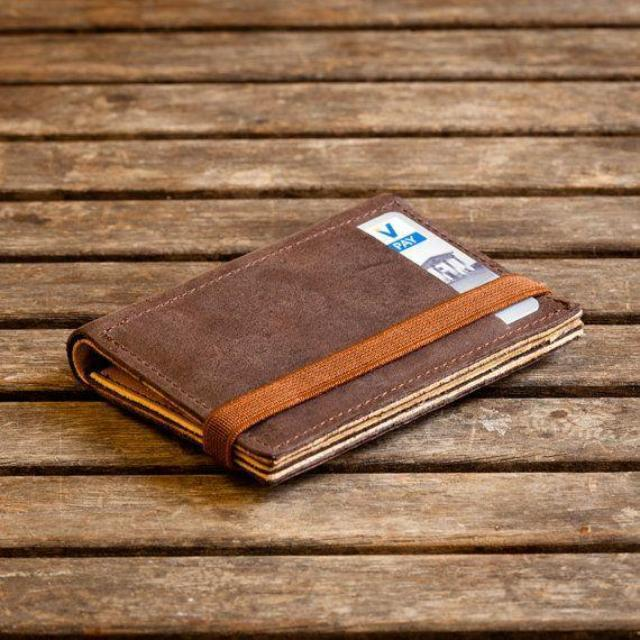wallet: (60, 186, 586, 488)
